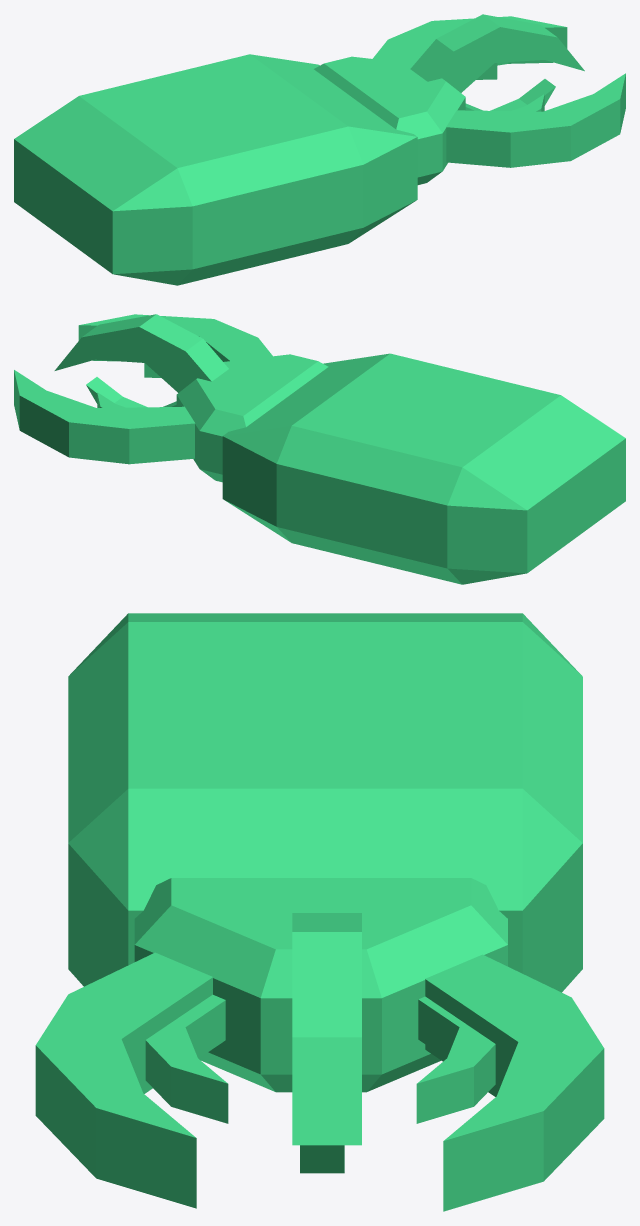
The model's file is beetle.glb.
3 renders of one model, top to bottom at view 1: azimuth 30°, elevation 25°; view 2: azimuth 150°, elevation 25°; view 3: azimuth 270°, elevation 25°, orthographic. The views are drawn at different scales.
Visible parts, largest first — view 1: Carapace, Head_B, Head_C, Head_A; view 2: Carapace, Head_B, Head_C, Head_A; view 3: Carapace, Head_B, Head_A, Head_C.
Boxes of the visible parts, x1=… form: Carapace: x1=14, y1=54, x2=417, y2=285; Head_B: x1=325, y1=16, x2=625, y2=167; Head_C: x1=315, y1=14, x2=584, y2=184; Head_A: x1=314, y1=56, x2=544, y2=177; Carapace: x1=222, y1=353, x2=625, y2=584; Head_B: x1=14, y1=314, x2=317, y2=464; Head_C: x1=54, y1=314, x2=328, y2=482; Head_A: x1=97, y1=354, x2=317, y2=468; Carapace: x1=68, y1=613, x2=582, y2=992; Head_B: x1=35, y1=878, x2=604, y2=1211; Head_A: x1=134, y1=878, x2=507, y2=1123; Head_C: x1=199, y1=913, x2=507, y2=1173.
Size of the model in its own units: 4.79 by 1.2 by 2.21.
